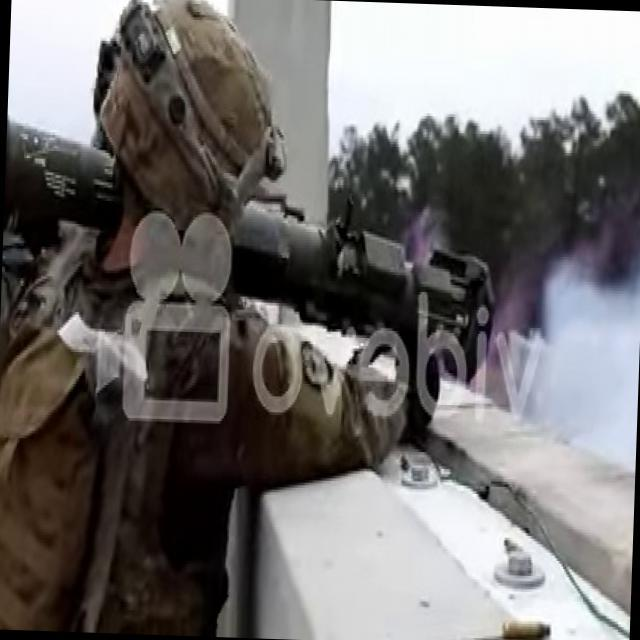rocket: (0, 131, 498, 388)
